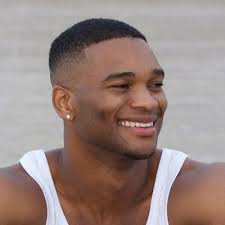black_male: (81, 28, 176, 183)
